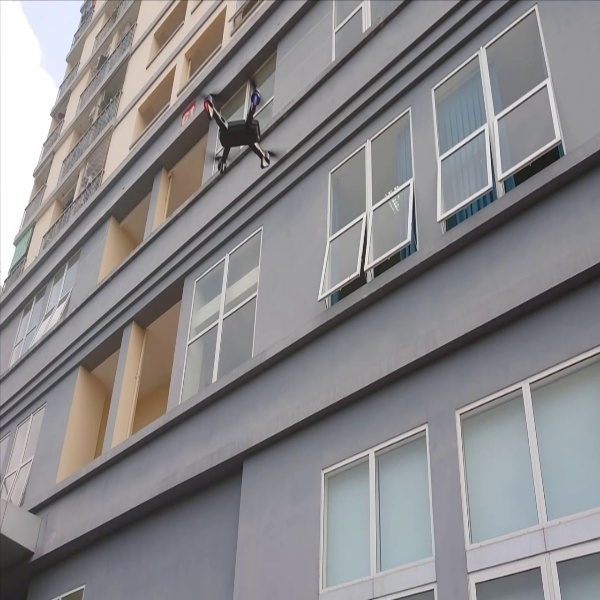drone: (197, 67, 280, 182)
